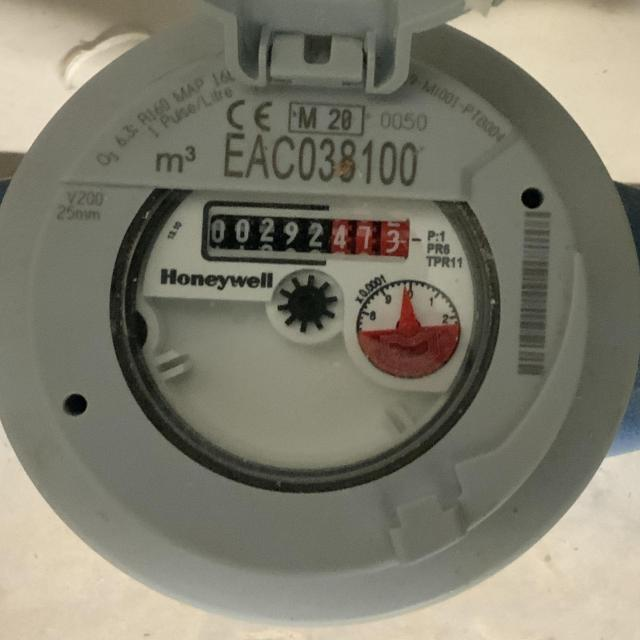gaz_meter: (120, 129, 487, 470)
indication: (206, 207, 411, 263)
